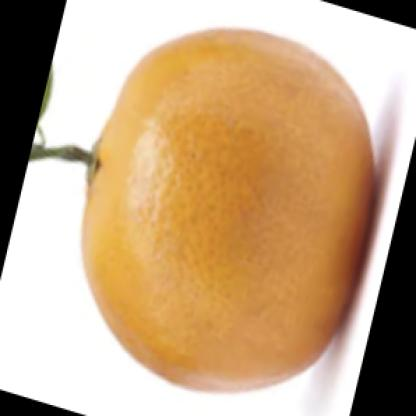fresh: (82, 27, 378, 390)
